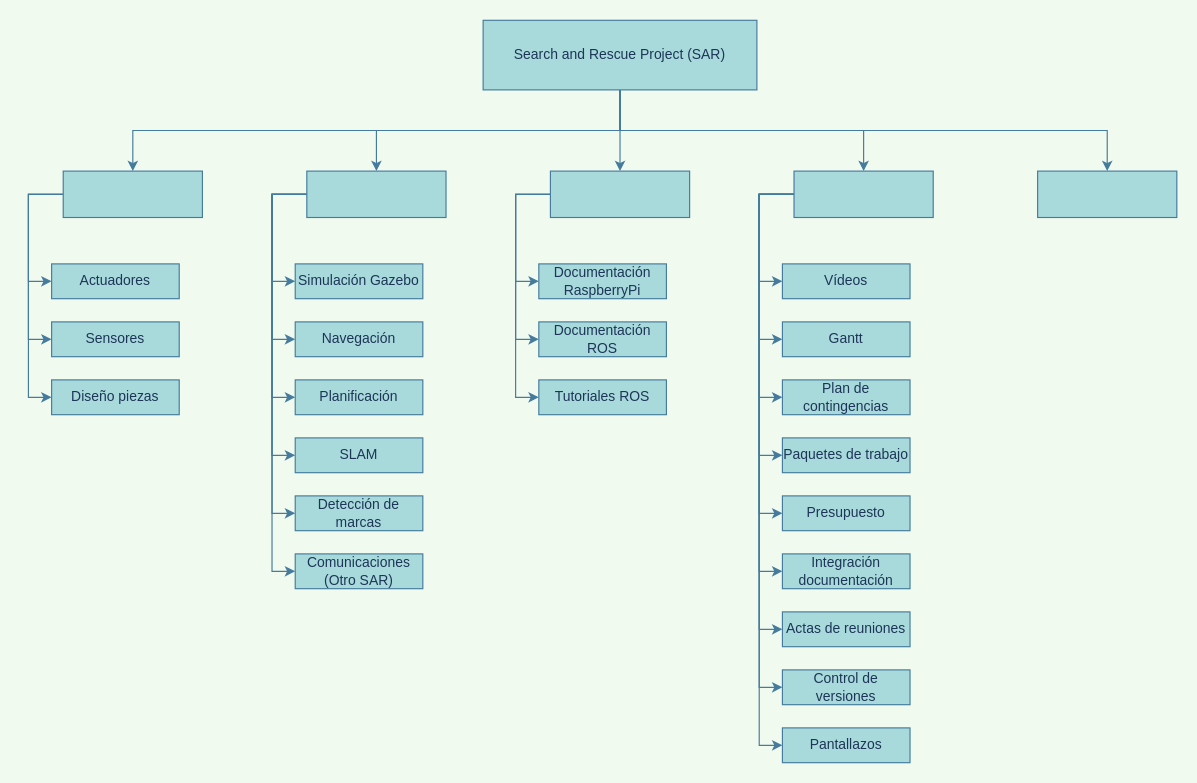
The diagram is 1197 pixels wide and 783 high, and some of its shapes have lost their labels. The shapes that lost their labels are listed below. From the top down, each one's centre as x and y in pixels, then its label:
[132,193]: Hardware
[376,193]: Software
[619,193]: Formación
[863,193]: Documentación
[1106,193]: Pruebas
